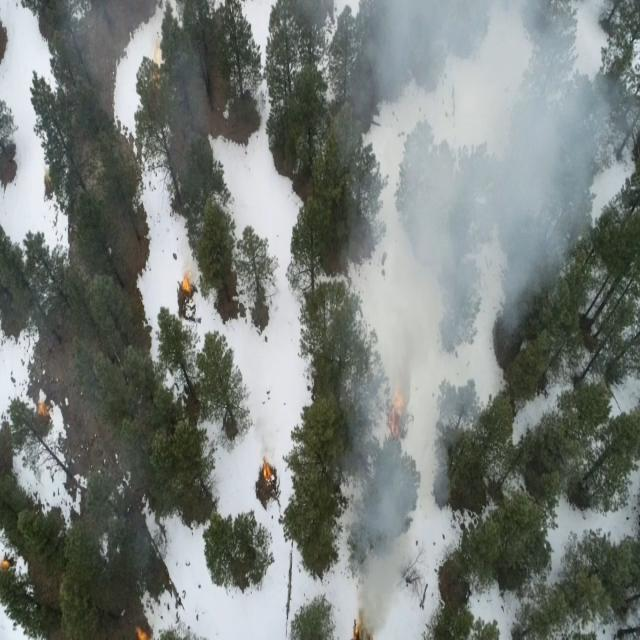Fire: (384, 389, 420, 444), (350, 615, 380, 640), (34, 396, 56, 426), (258, 455, 280, 485), (180, 268, 194, 304), (0, 551, 18, 578), (129, 625, 157, 640)
Smoke: (348, 0, 629, 640)
